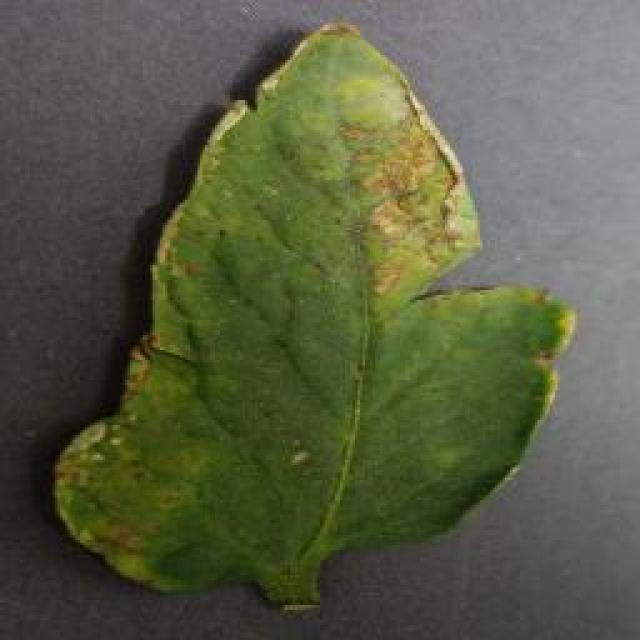Tomato bacterial spot leaf: (53, 16, 575, 596)
